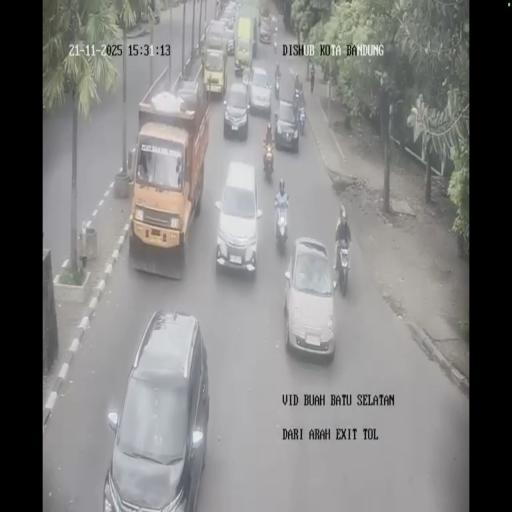3: (129, 61, 209, 273), (234, 2, 260, 73)
car: (101, 310, 207, 508), (283, 238, 335, 356), (214, 159, 261, 275), (222, 80, 250, 138), (247, 65, 272, 115), (274, 99, 298, 151), (204, 19, 229, 60), (221, 0, 237, 28), (258, 15, 272, 44)
truck: (333, 235, 351, 296), (274, 193, 290, 247), (262, 143, 274, 180), (297, 107, 306, 135), (274, 71, 280, 100), (310, 74, 314, 94), (273, 37, 277, 54)
